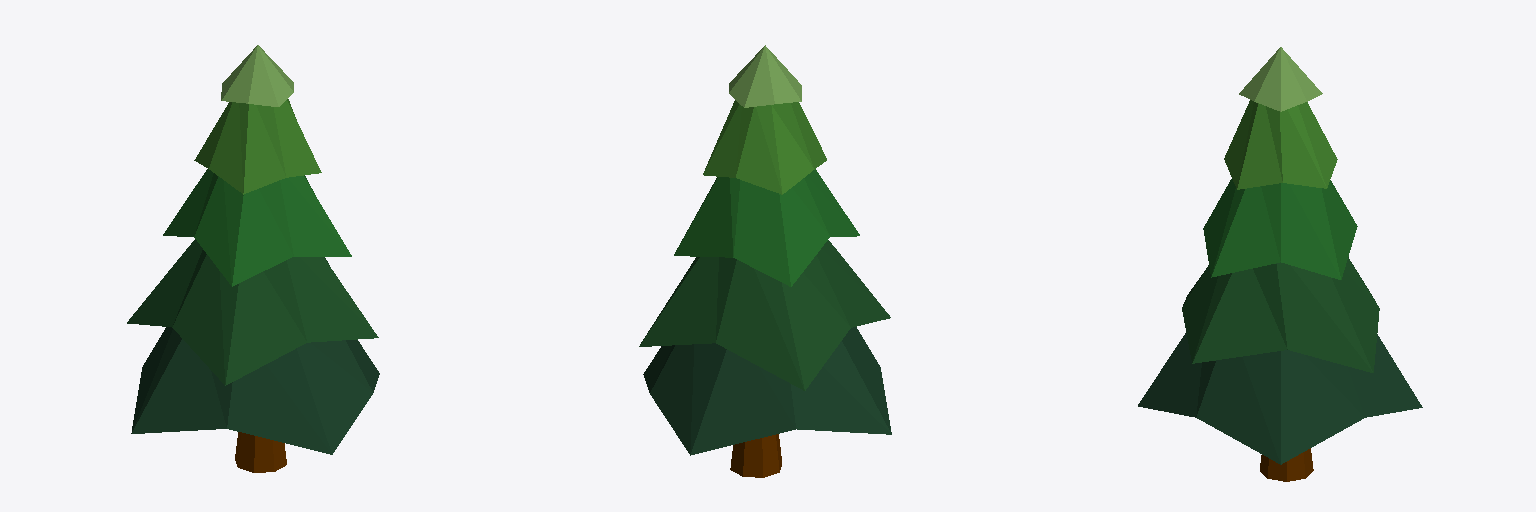
3 views of the same model, side by side, from view 1: azimuth 30°, elevation 25°; view 2: azimuth 150°, elevation 25°; view 3: azimuth 270°, elevation 25° (orthographic).
Parts seen in each view (by area): view 1: Traa; view 2: Traa; view 3: Traa.
Part boxes in pixels (bbox=[...]): Traa: bbox=[127, 45, 379, 472]; Traa: bbox=[639, 45, 891, 477]; Traa: bbox=[1138, 47, 1422, 481].
Size of the model in its own units: 5.07 by 8.2 by 5.05.
1 materials, 1 textured.